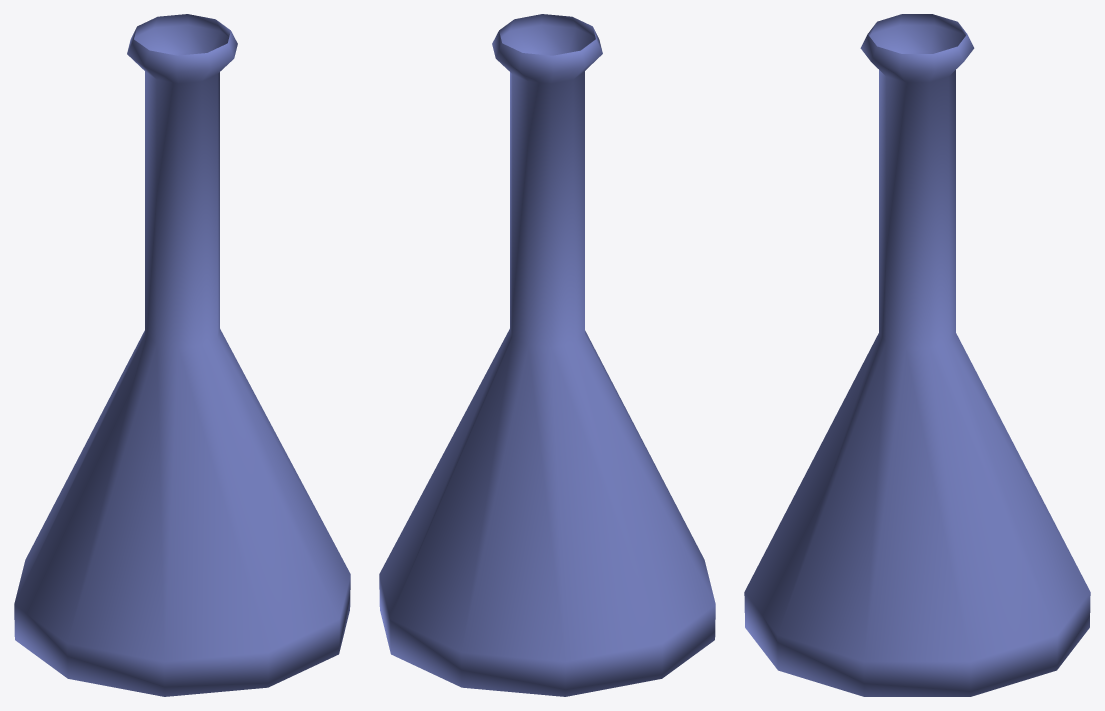
File: Fiolka.fbx
The picture shows the model from 3 angles, left to right: view 1: azimuth 30°, elevation 25°; view 2: azimuth 150°, elevation 25°; view 3: azimuth 270°, elevation 25°; orthographic projection.
Parts seen in each view (by area): view 1: Cone; view 2: Cone; view 3: Cone.
Part boxes in pixels (x1,y1,x2,y2): Cone: (14,14,350,696); Cone: (379,14,715,696); Cone: (744,14,1090,696).
Bounding box in the file's own units: 34.25 × 68.15 × 36.01.
